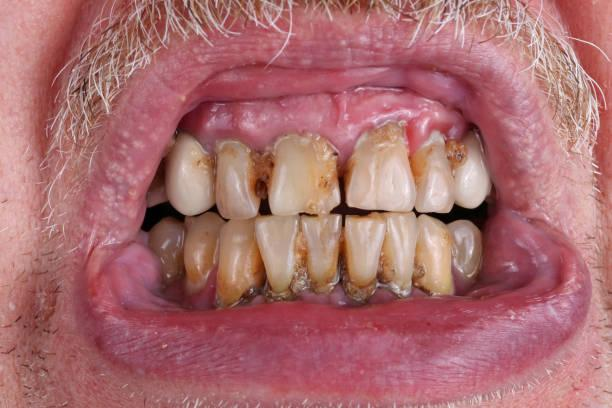Calculus: (207, 236, 259, 302), (329, 244, 386, 303), (310, 140, 361, 204), (278, 234, 327, 300), (236, 144, 286, 196), (181, 222, 218, 292), (400, 260, 446, 299), (192, 143, 227, 178), (444, 136, 472, 178), (374, 119, 412, 148)
Discoloration: (449, 219, 486, 283)
